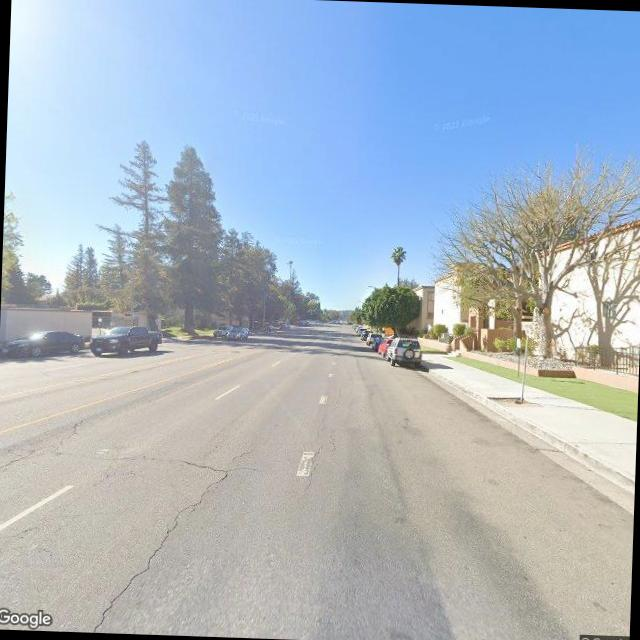crack: (78, 452, 236, 635), (299, 438, 323, 494), (227, 444, 256, 460)
